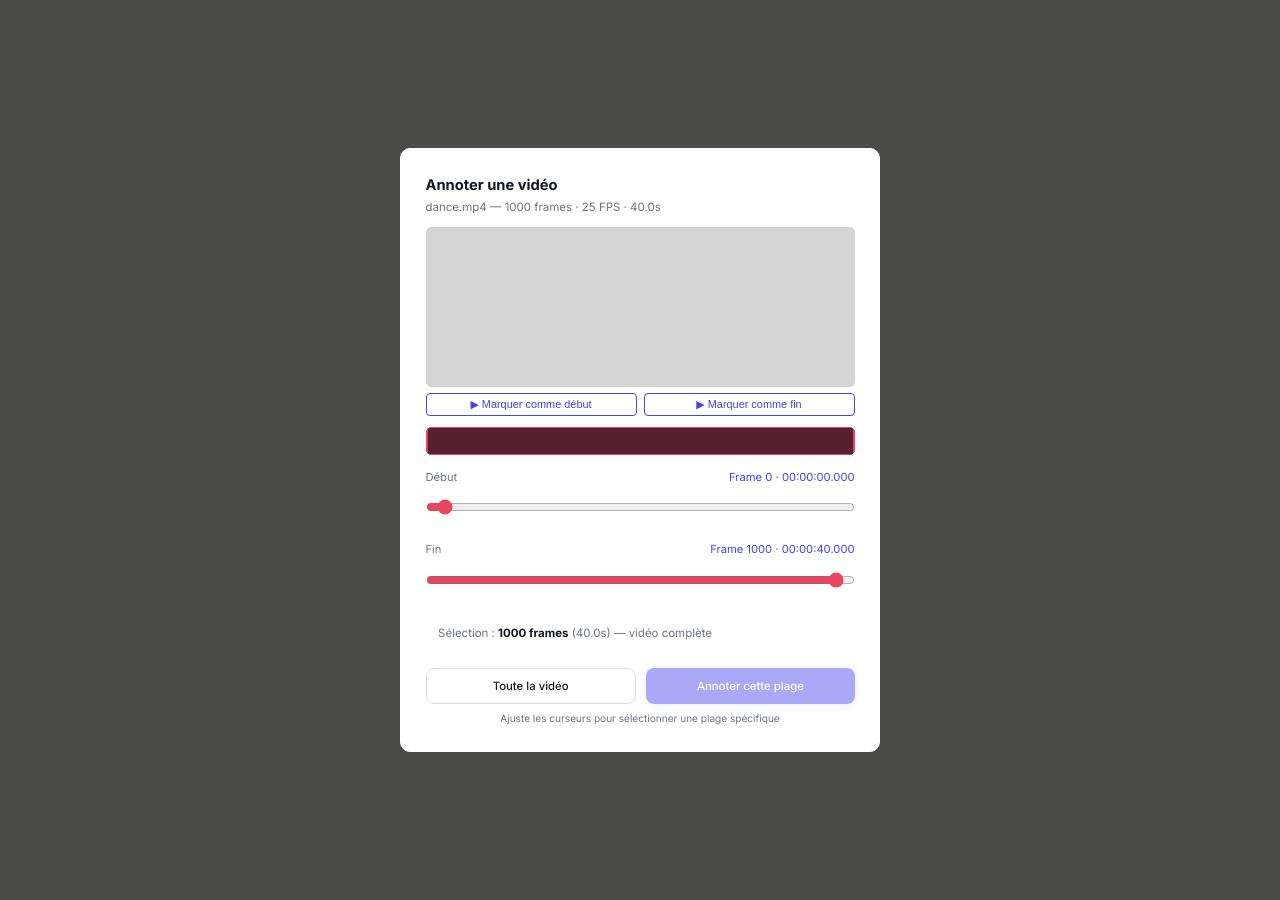
Test case: VideoTrimModal › le slider fin ne peut pas descendre sous début + 1
This screenshot has width=1280, height=900.
Set the slider below "00:00:00.000" to "500". click: (640, 507)
box: [426,489,854,525]
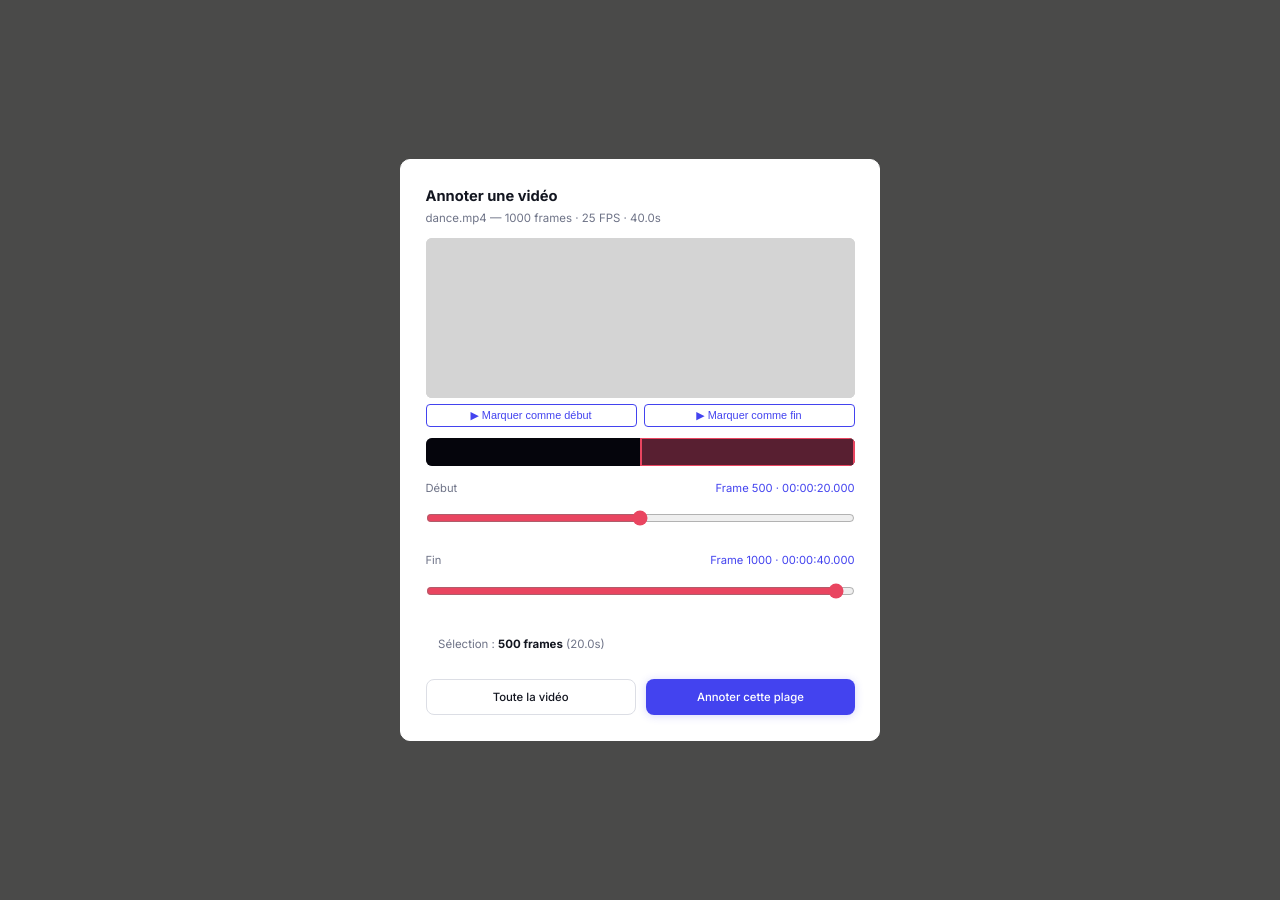
Set the slider below "00:00:40.000" to "200". click: (516, 591)
box: [426,573,854,609]
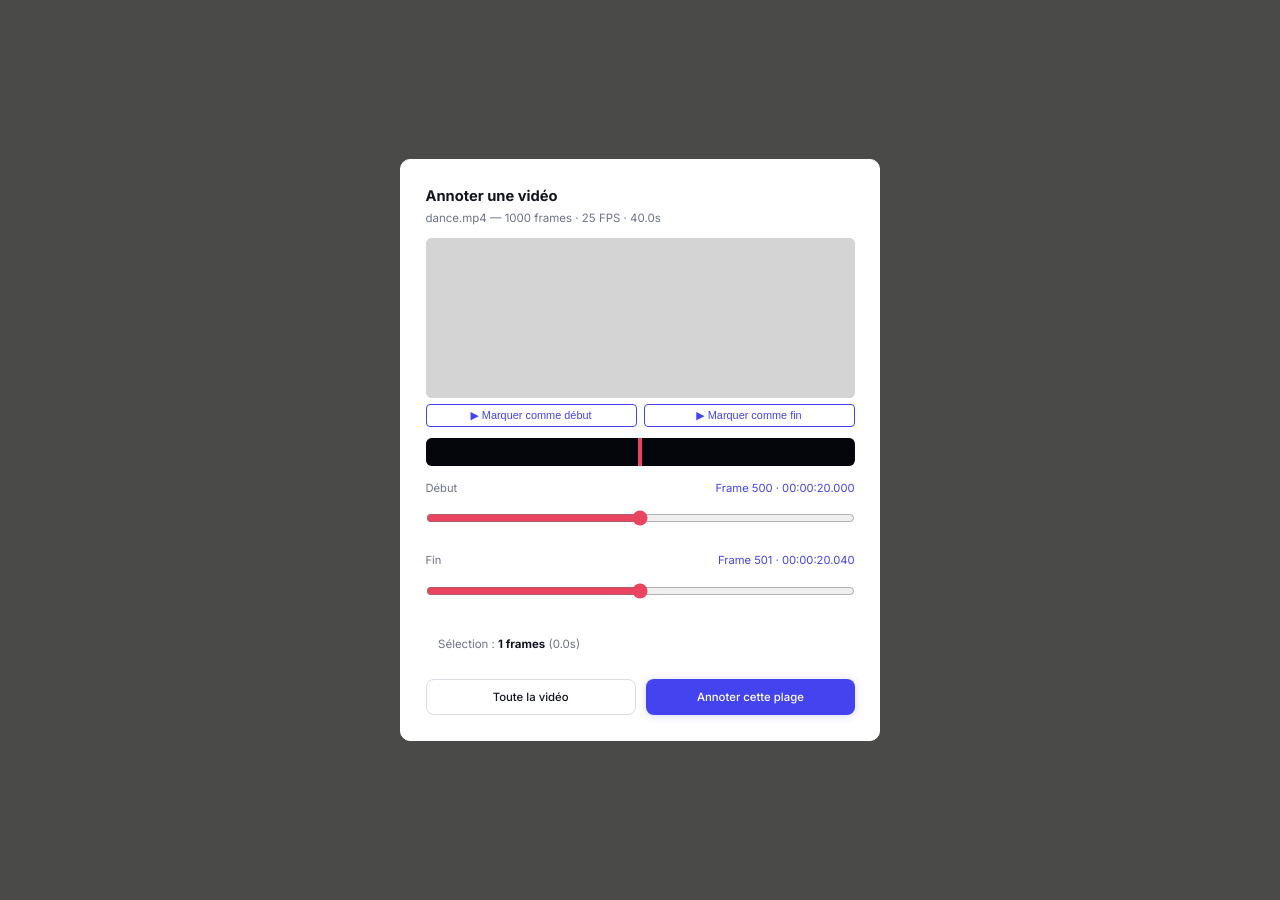
expect the text "Frame 501 · 00:00:20.040" is shown: met, box [718,552,854,569]
